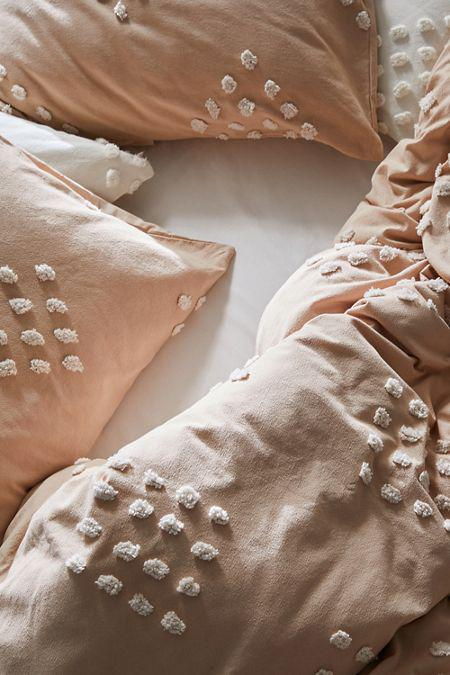bed: (1, 1, 450, 672)
